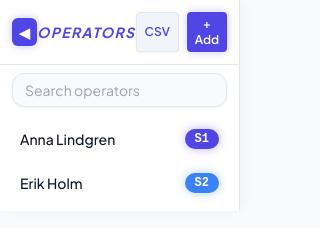
Scenario: OperatorPanel › clear button resets the search
The width and height of the screenshot is (320, 228).
Type "anna" into the field with placeholder "Search operators" at (120, 90), box x1=12 y1=73 x2=227 y2=107
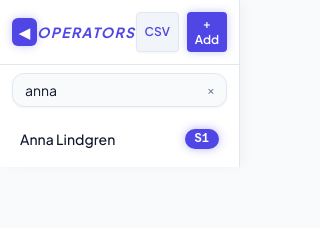
Expected: the text "Erik Holm" is gone
Click the button named "Clear search" at (211, 90), box x1=199 y1=78 x2=223 y2=102
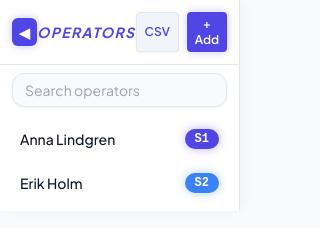
Expected: the field with placeholder "Search operators" is empty, x1=12 y1=73 x2=227 y2=107
Expected: the text "Erik Holm" is shown, x1=20 y1=174 x2=82 y2=192
